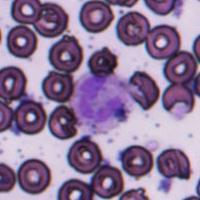N: (70, 73, 133, 132)
